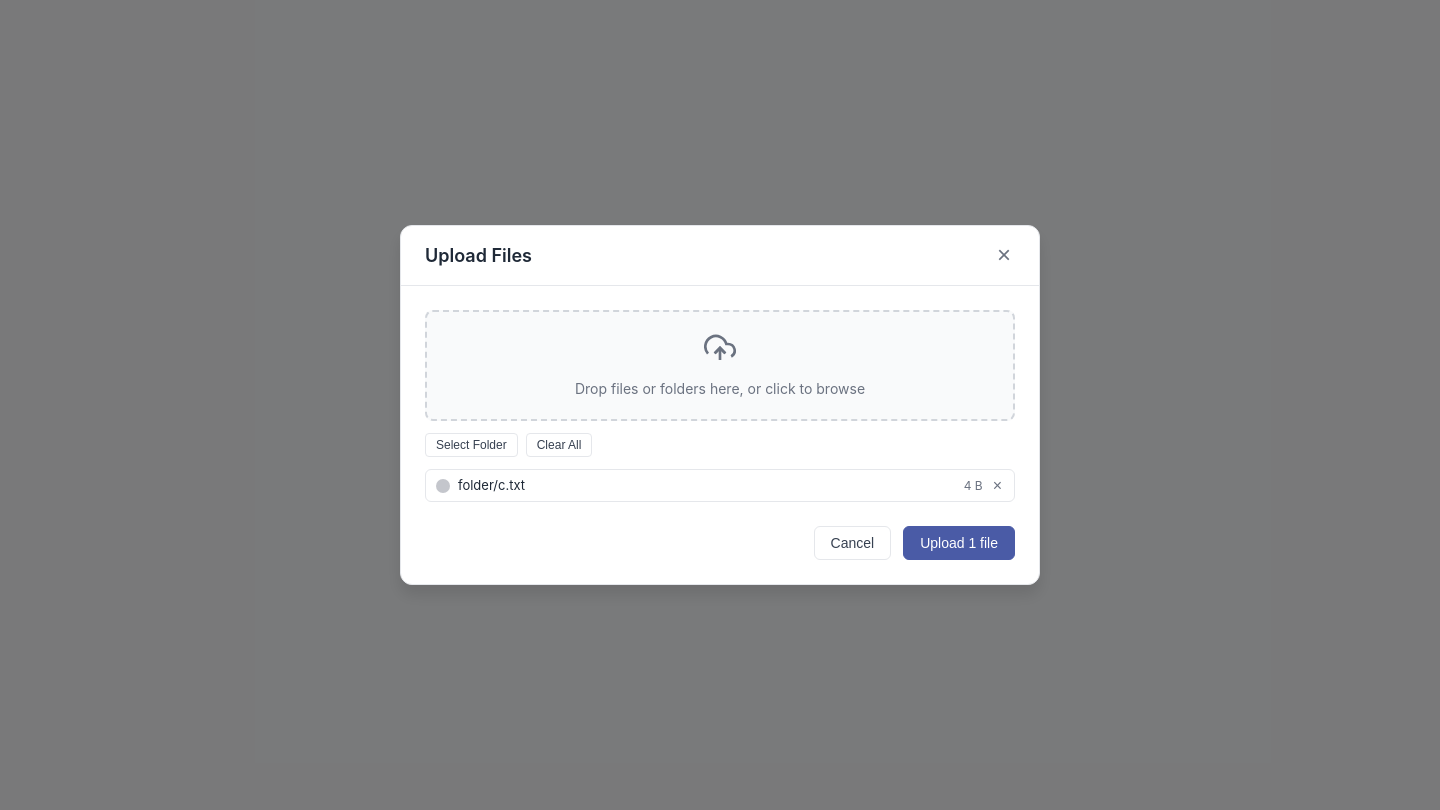
Test: UploadFileModal › passes relative folder paths through to the upload
The width and height of the screenshot is (1440, 810).
Earlier steps of the test are not shown.
Click the button "Upload 1 file" at (959, 543), box [903,526,1015,560]
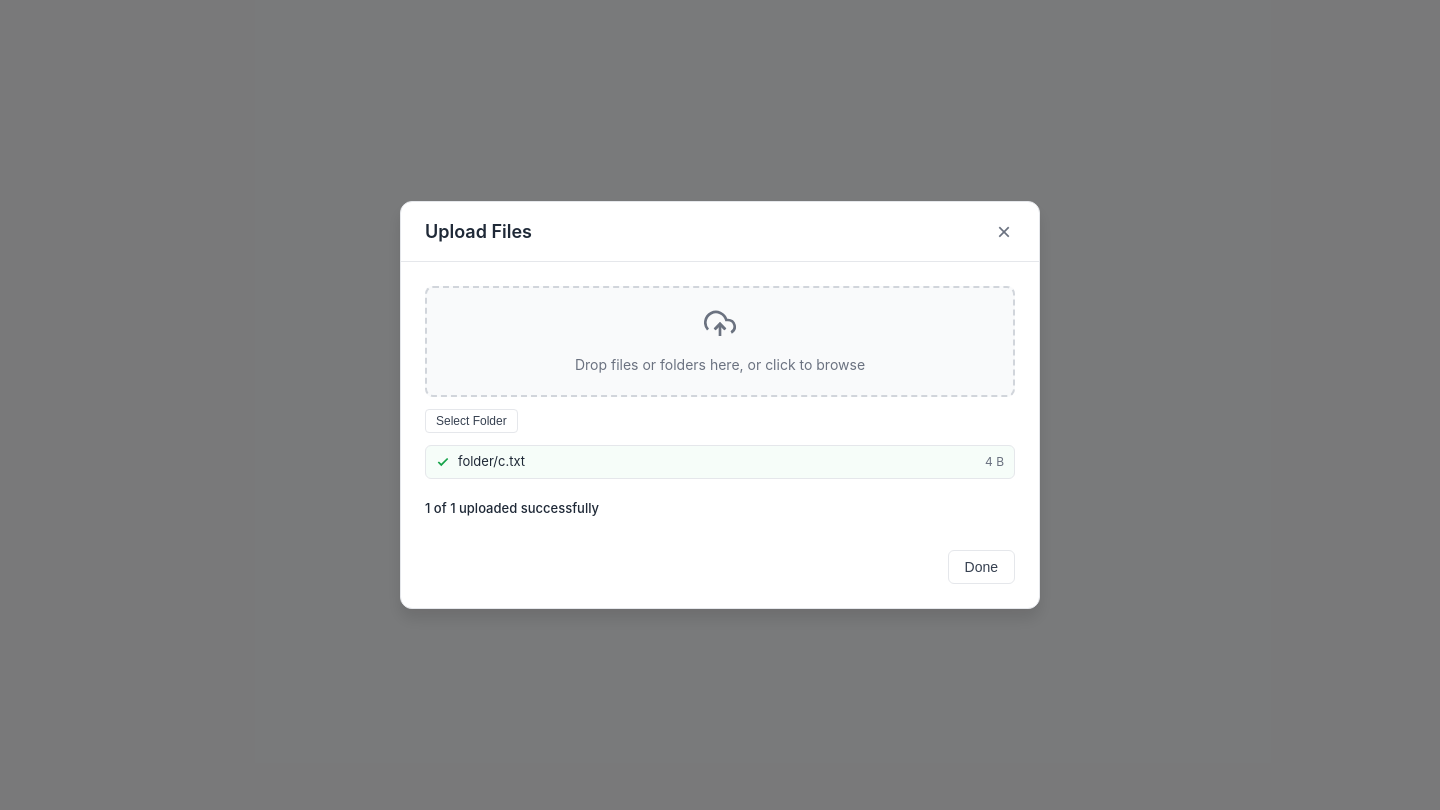
Expected: the text "folder/c.txt" is shown, [458,453,525,469]
Result: the text "1 of 1 uploaded successfully" is shown at [425,500,599,516]
